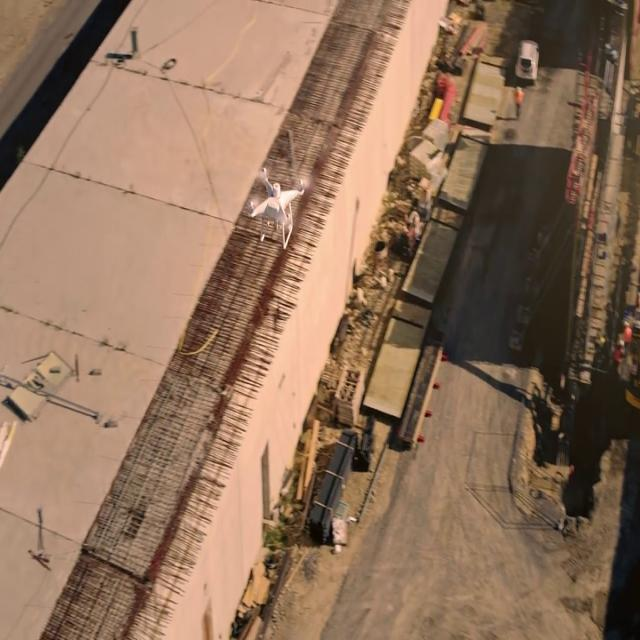drone: (246, 161, 314, 246)
